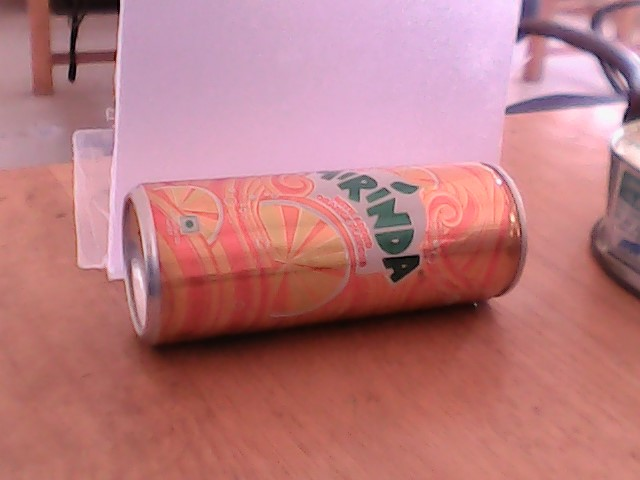Metal: (114, 179, 559, 327)
